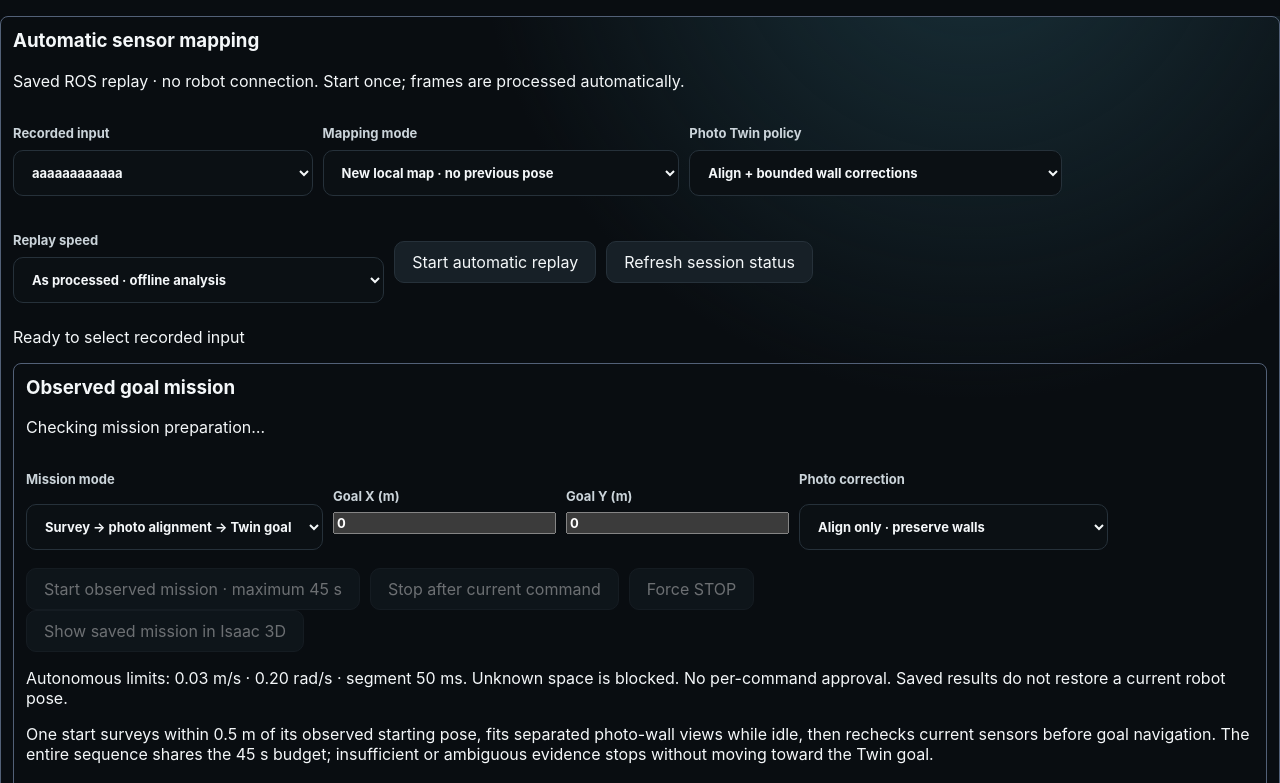
Scenario: automatic causal session › invalidates the displayed result immediately on pause and uses the owned job
Step 1. Click the button "Start automatic replay" → (495, 262), box [394,241,596,283]
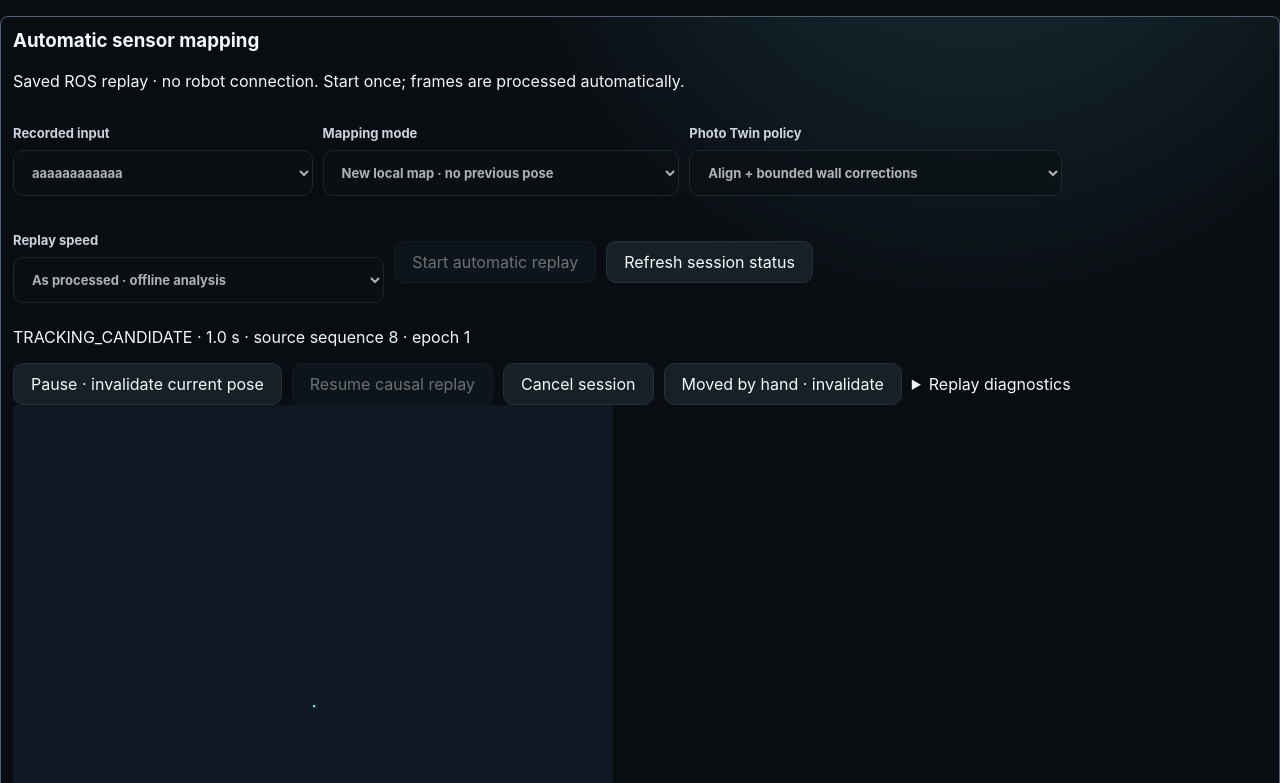
Now the button "Pause · invalidate current pose" is shown
Step 2. Click the button "Pause · invalidate current pose" → (147, 384), box [13,363,282,405]
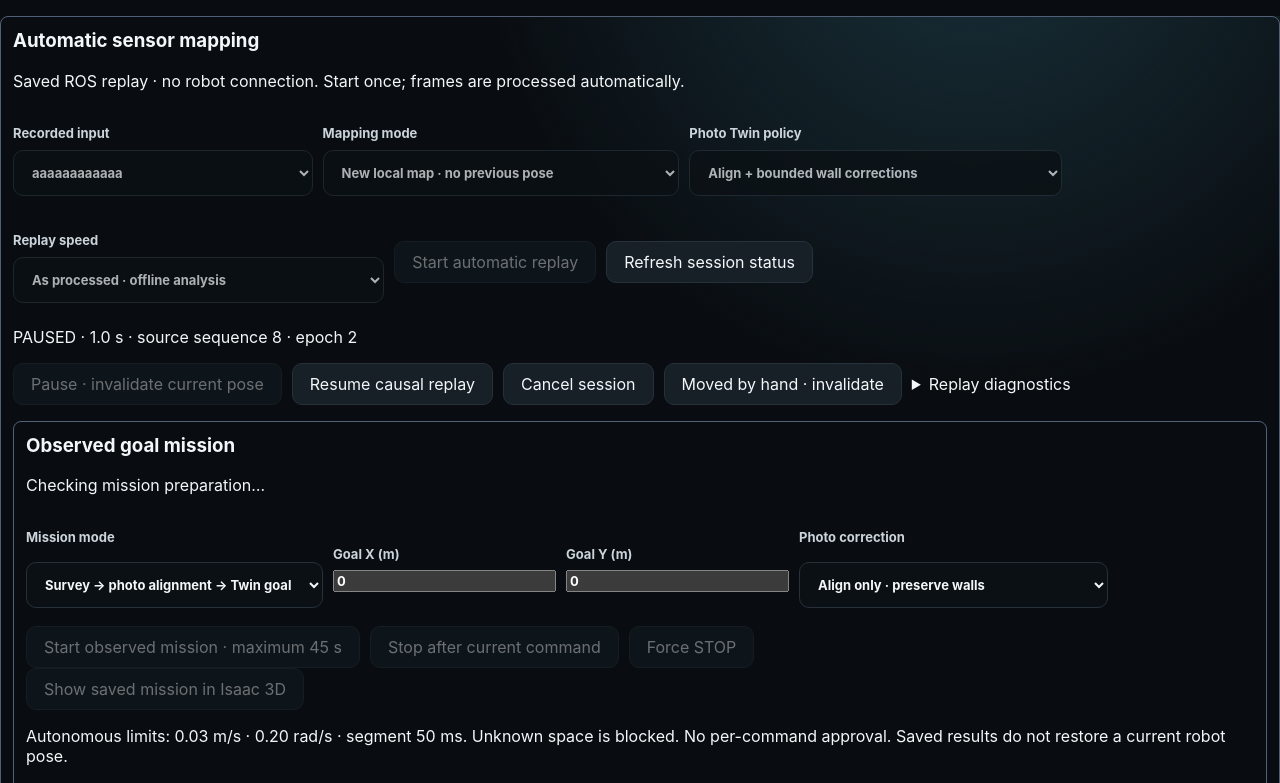
Now the text "PAUSED · 1.0 s · source sequence 8 · epoch 2" is shown, box [13,327,357,347]
Now the button "Resume causal replay" is enabled, box [292,363,493,405]
